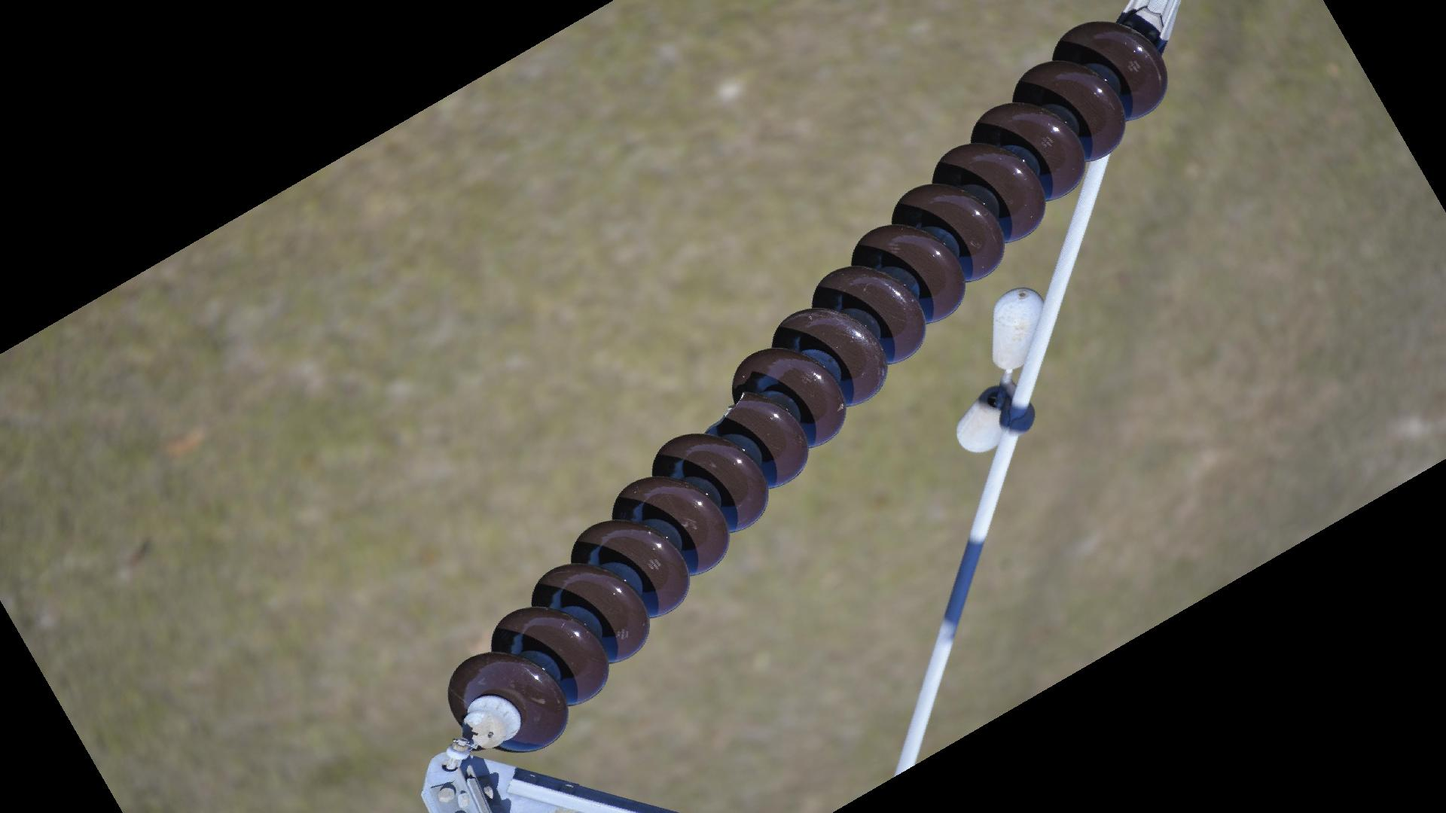insulator: (444, 12, 1172, 760)
insulator_breakage: (700, 389, 749, 437)
